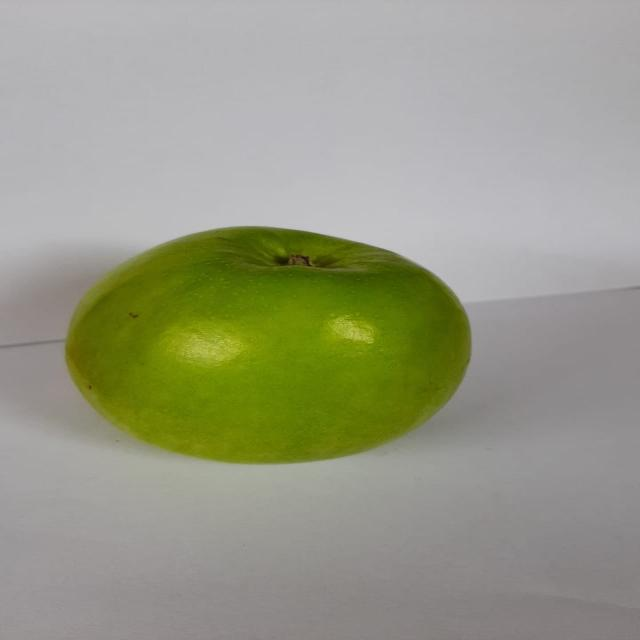50-_ripeness: (50, 220, 480, 468)
